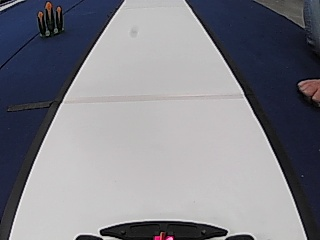corn: (34, 0, 65, 39)
